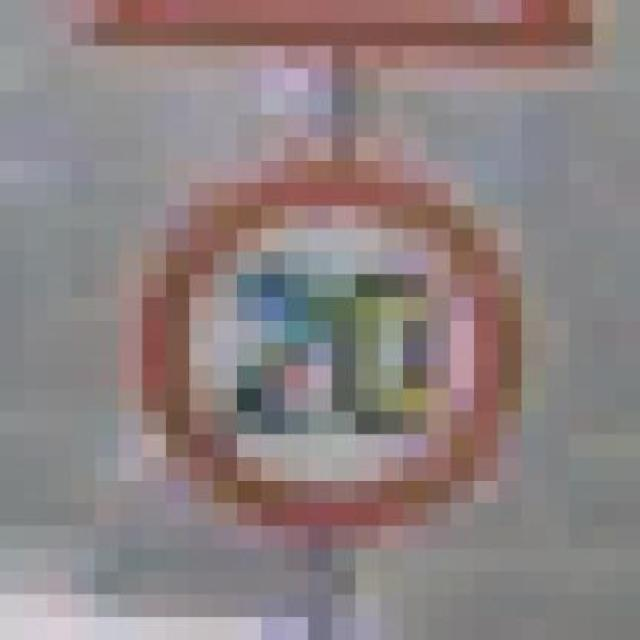forb_speed_over_20: (156, 167, 513, 516)
